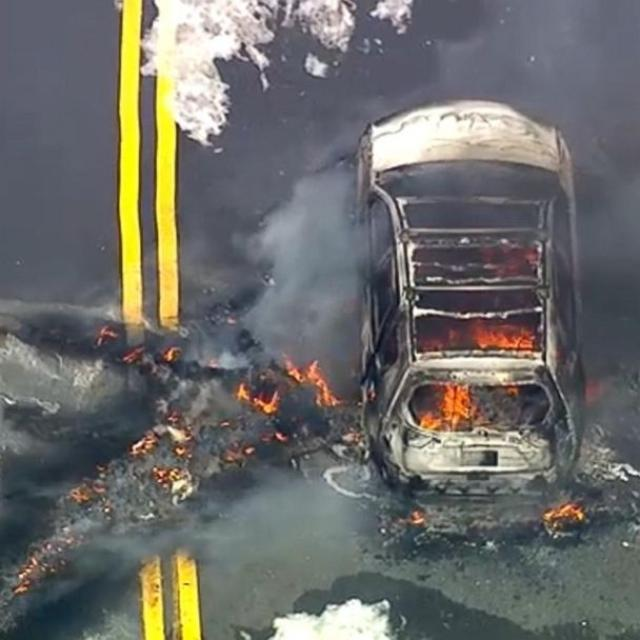Fire: (391, 293, 550, 437), (208, 342, 336, 450)
Smoke: (411, 0, 640, 246), (92, 461, 395, 640), (178, 159, 388, 363)
